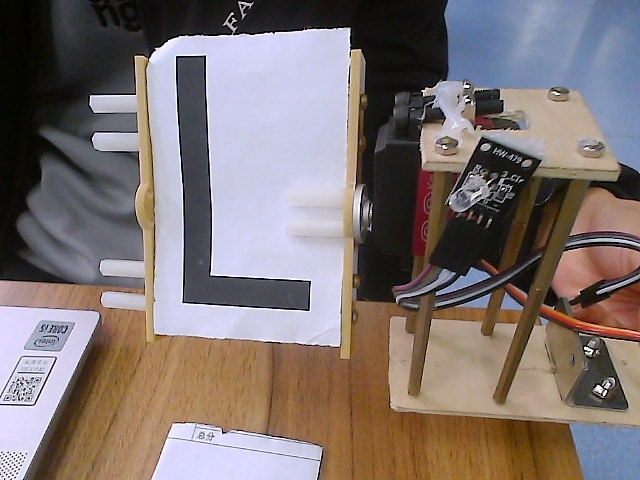L: (60, 18, 405, 376)
